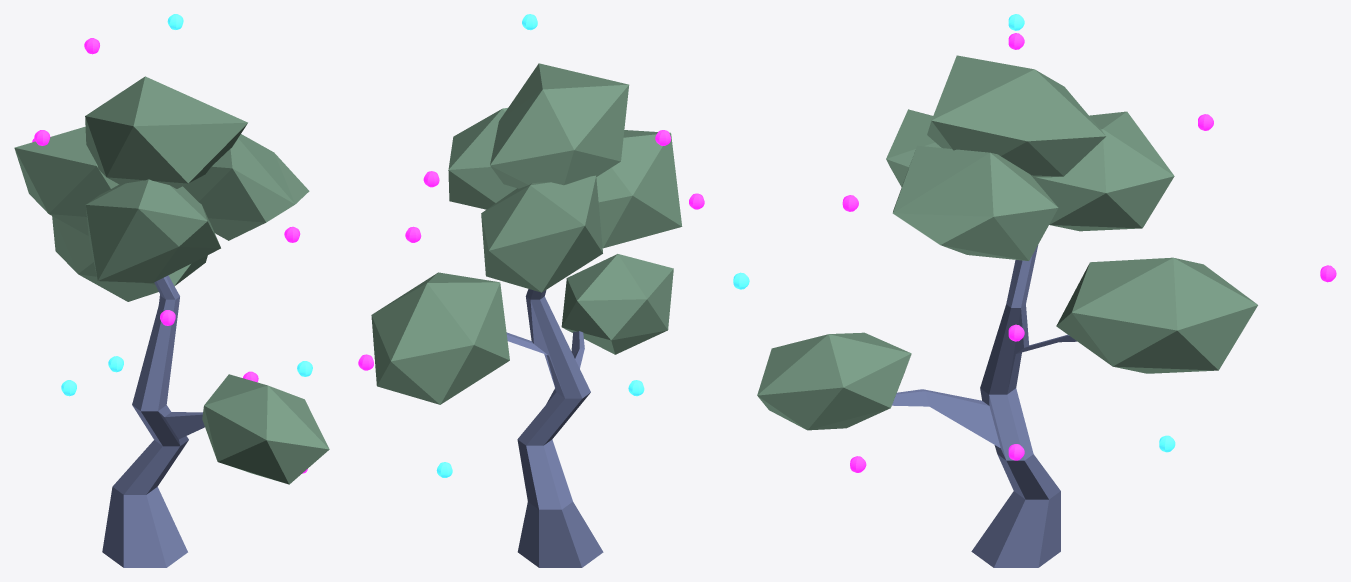
The model's file is Tree_1_Fixed.fbx.
3 views of the same model, side by side, from view 1: azimuth 30°, elevation 25°; view 2: azimuth 150°, elevation 25°; view 3: azimuth 270°, elevation 25° (orthographic). The views are drawn at different scales.
Visible parts, largest first — view 1: Leaves; view 2: Leaves; view 3: Leaves.
Part boxes in pixels (<box>): Leaves: <box>14,14,329,567</box>; Leaves: <box>358,14,704,567</box>; Leaves: <box>733,14,1336,567</box>.
Size of the model in its own units: 965 by 1853 by 1834.
